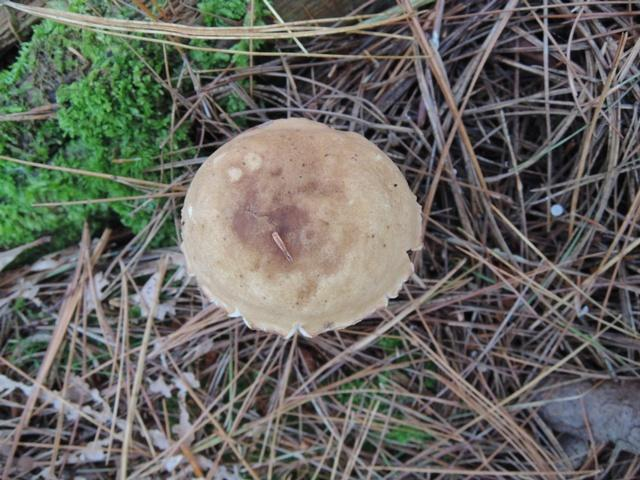Non-edible Mushroom: (178, 116, 424, 340)
